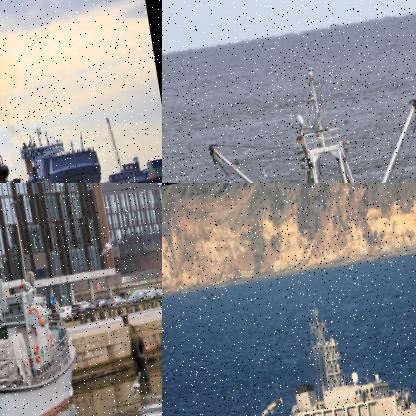Fishing Boat: (196, 48, 415, 182)
Merchant Ship: (15, 118, 104, 182)
Military Ship: (180, 279, 415, 415)
Patrol Boat: (0, 183, 90, 415), (0, 0, 44, 182)
